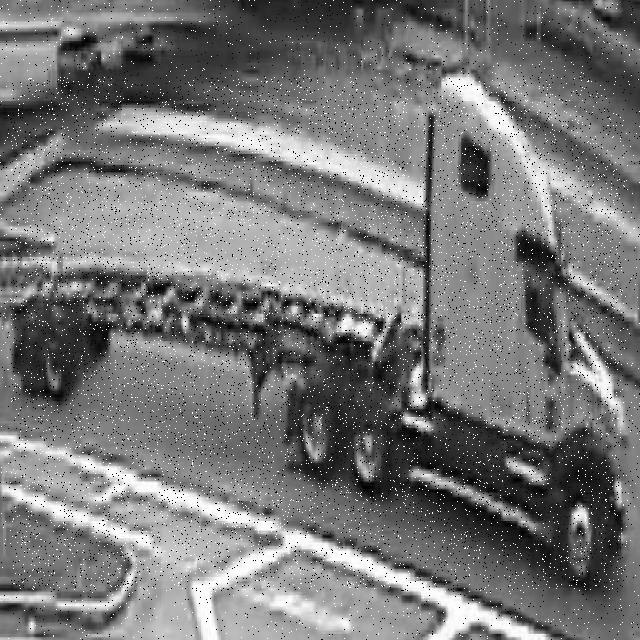Box Truck: (11, 77, 624, 591)
